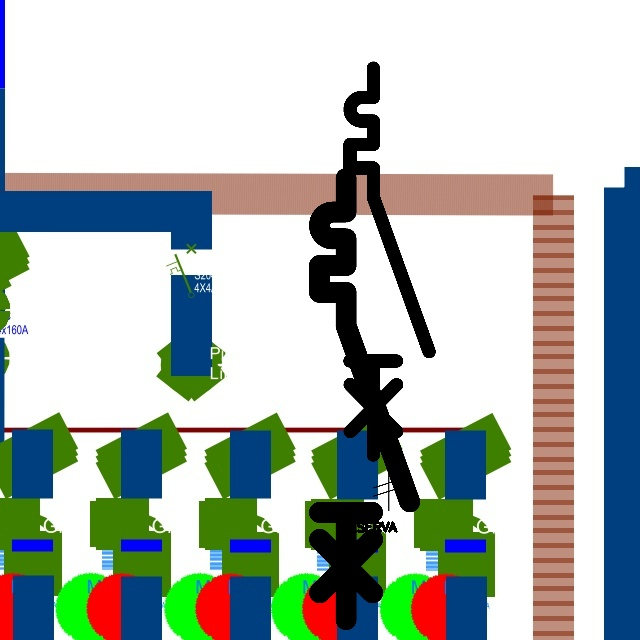interruptor_termomagnetico: (308, 167, 421, 631), (340, 58, 439, 465)
